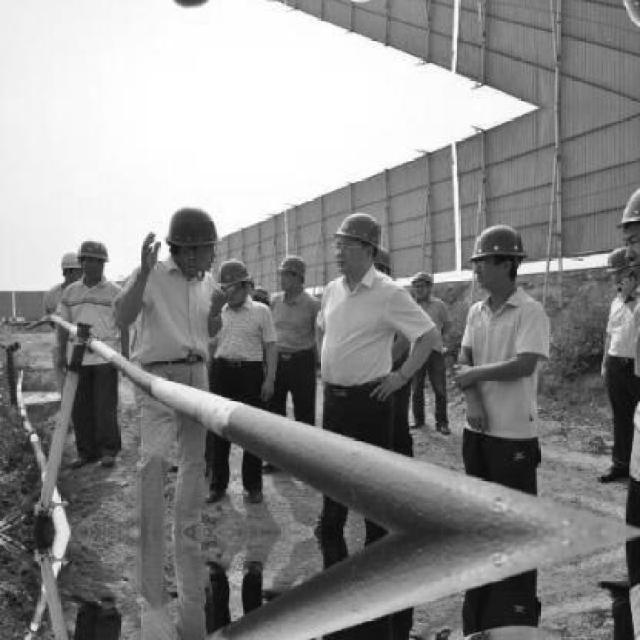helmet: (166, 201, 223, 277), (469, 217, 526, 292), (330, 210, 384, 276), (612, 183, 637, 274), (215, 254, 252, 300), (76, 237, 110, 281), (278, 251, 311, 295), (608, 237, 632, 297), (408, 269, 434, 302), (612, 0, 638, 31), (56, 248, 78, 284)
